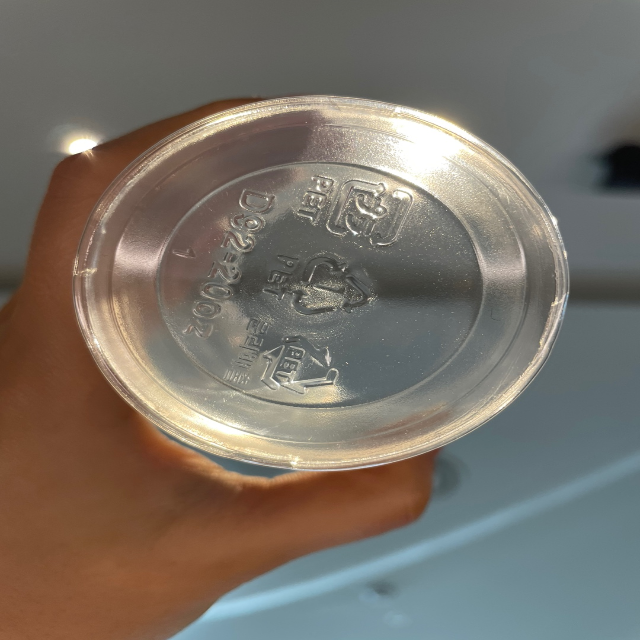pet: (218, 312, 348, 398), (298, 167, 422, 250), (262, 249, 380, 324)
